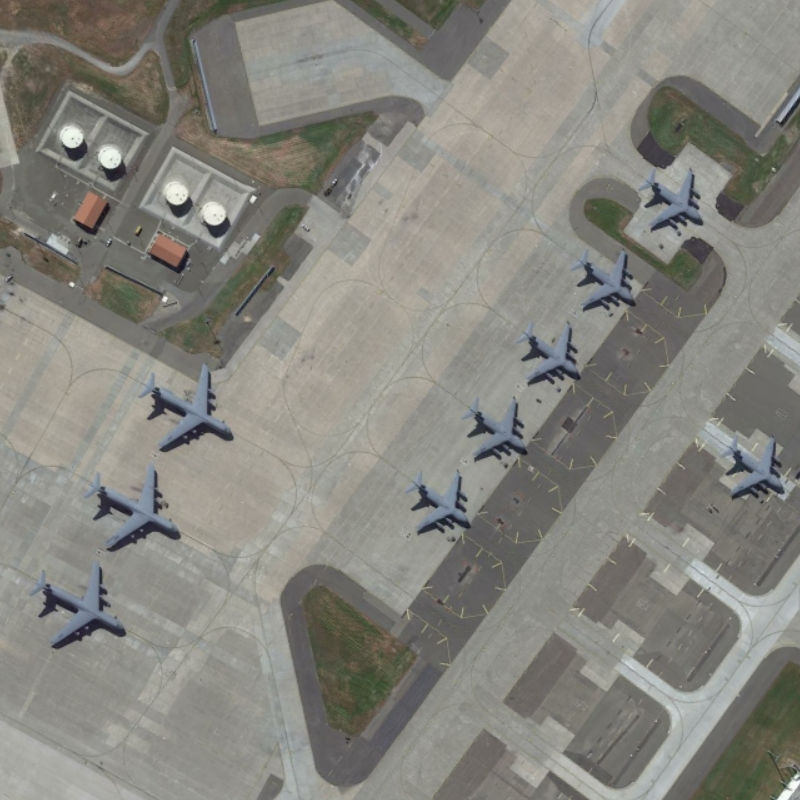A3: (715, 428, 791, 504), (457, 390, 532, 463), (633, 162, 710, 233), (565, 242, 642, 311), (400, 467, 476, 536), (514, 315, 586, 382)
A4: (134, 360, 240, 450), (25, 560, 129, 651), (82, 462, 186, 552)
